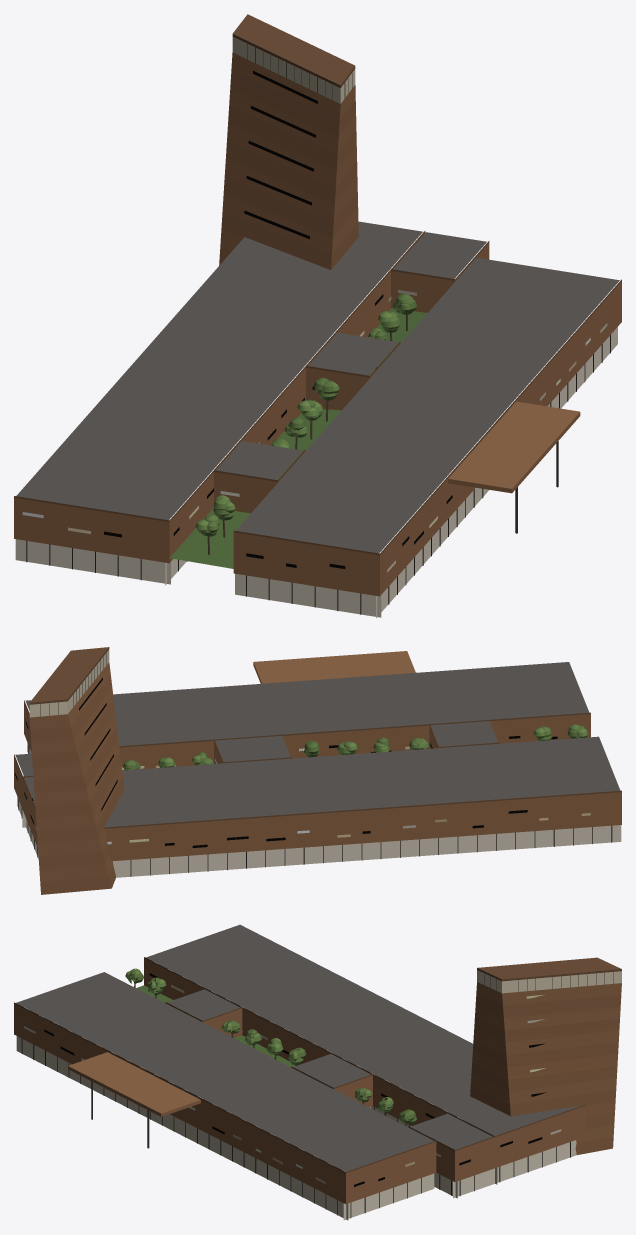
Rendered from deYoung_lod0.glb.
3 renders of one model, top to bottom at view 1: azimuth 30°, elevation 25°; view 2: azimuth 150°, elevation 25°; view 3: azimuth 270°, elevation 25°, orthographic. The views are drawn at different scales.
Parts seen in each view (by area): view 1: L0_roof, L0_copper, L0_metal, L0_shop, L0_win, L0_grass, L0_leaf; view 2: L0_roof, L0_copper, L0_shop, L0_metal, L0_win, L0_leaf; view 3: L0_roof, L0_copper, L0_metal, L0_shop, L0_win, L0_leaf, L0_grass.
Part boxes in pixels (x1=…): L0_roof: x1=16, y1=221, x2=619, y2=553; L0_copper: x1=14, y1=52, x2=621, y2=596; L0_metal: x1=14, y1=14, x2=621, y2=614; L0_shop: x1=15, y1=327, x2=617, y2=617; L0_win: x1=22, y1=37, x2=607, y2=572; L0_grass: x1=170, y1=308, x2=427, y2=568; L0_leaf: x1=195, y1=293, x2=416, y2=536; L0_roof: x1=15, y1=662, x2=620, y2=827; L0_copper: x1=14, y1=662, x2=621, y2=894; L0_shop: x1=17, y1=743, x2=621, y2=877; L0_metal: x1=14, y1=647, x2=621, y2=876; L0_win: x1=15, y1=649, x2=590, y2=847; L0_leaf: x1=123, y1=724, x2=588, y2=770; L0_roof: x1=16, y1=924, x2=581, y2=1171; L0_copper: x1=14, y1=958, x2=621, y2=1203; L0_metal: x1=14, y1=957, x2=621, y2=1217; L0_shop: x1=16, y1=1036, x2=576, y2=1220; L0_win: x1=24, y1=970, x2=621, y2=1186; L0_leaf: x1=125, y1=968, x2=416, y2=1124; L0_grass: x1=136, y1=985, x2=424, y2=1134.
Bounding box in the file's own units: 160 × 54.89 × 166.
